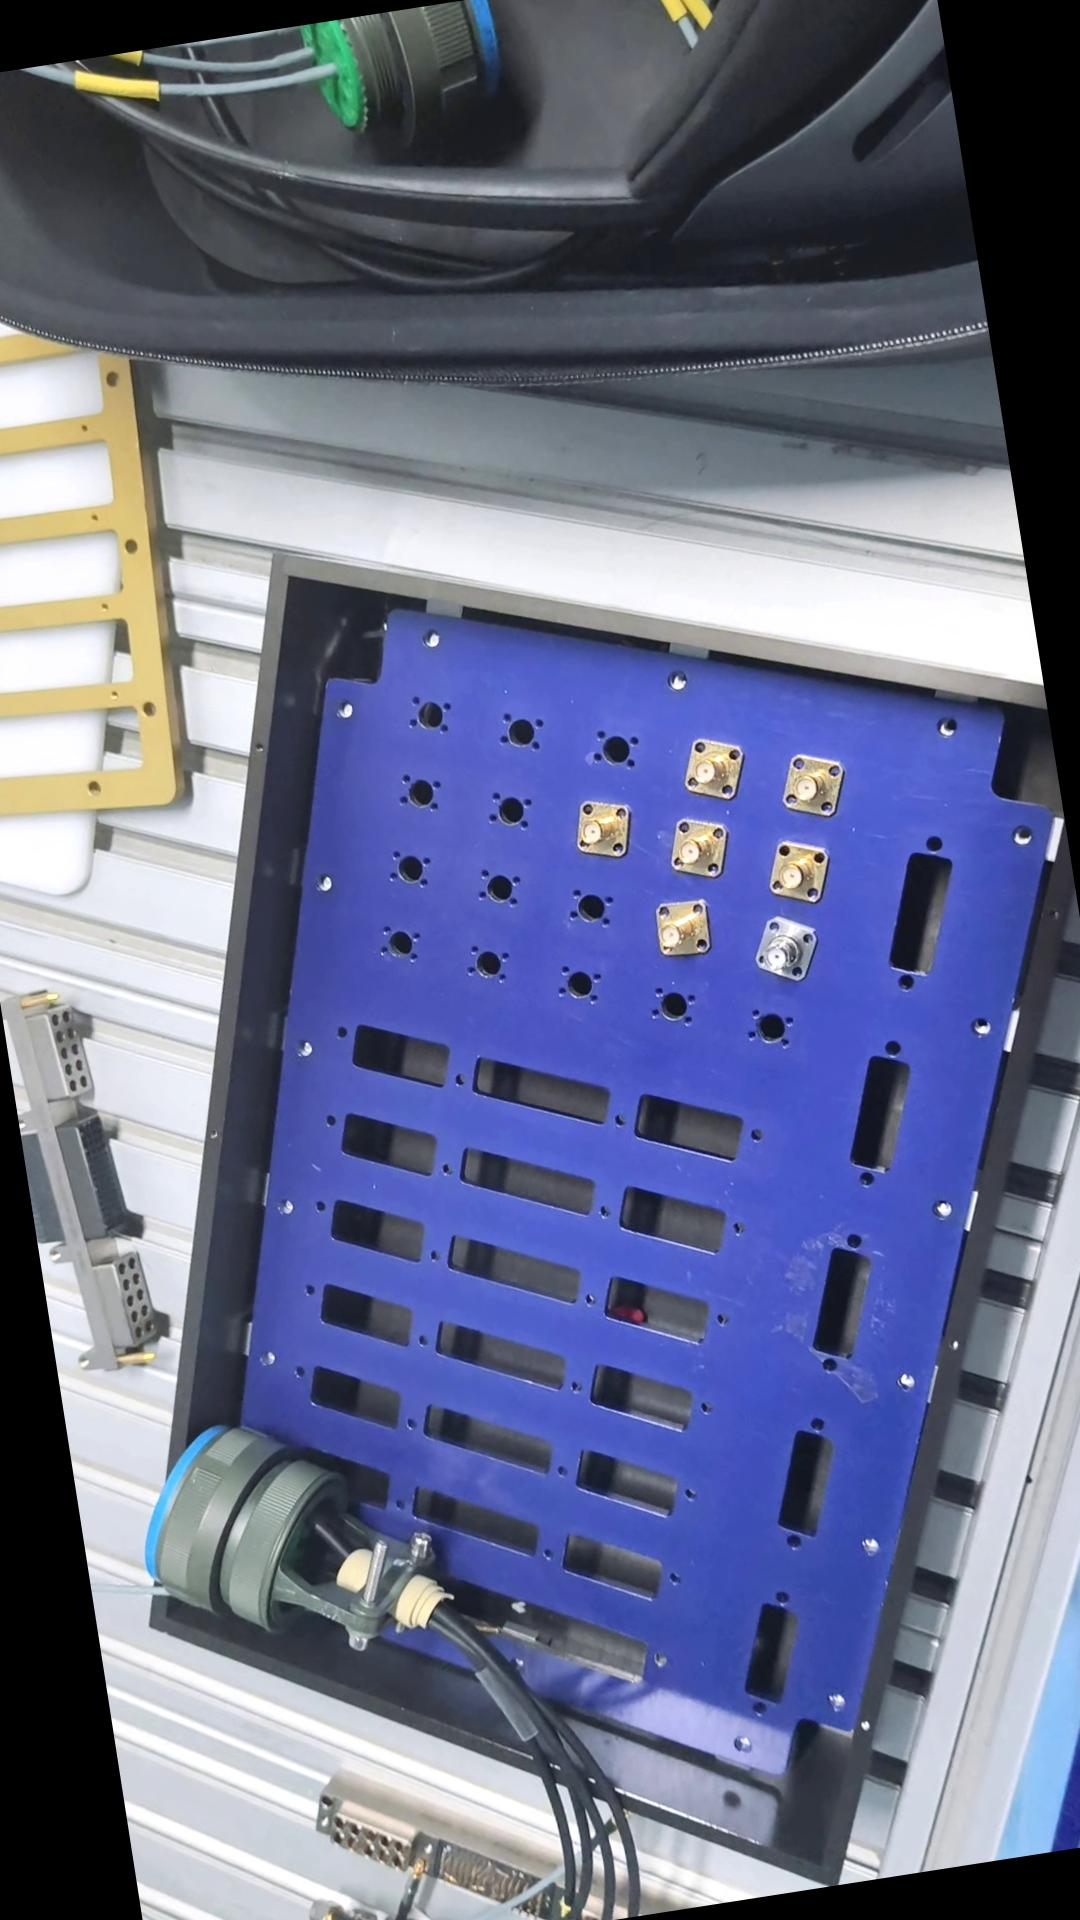SMA: (670, 728, 748, 806), (773, 741, 847, 818), (761, 831, 832, 905), (642, 897, 717, 965), (657, 815, 735, 881), (560, 796, 632, 868), (749, 913, 819, 978)
